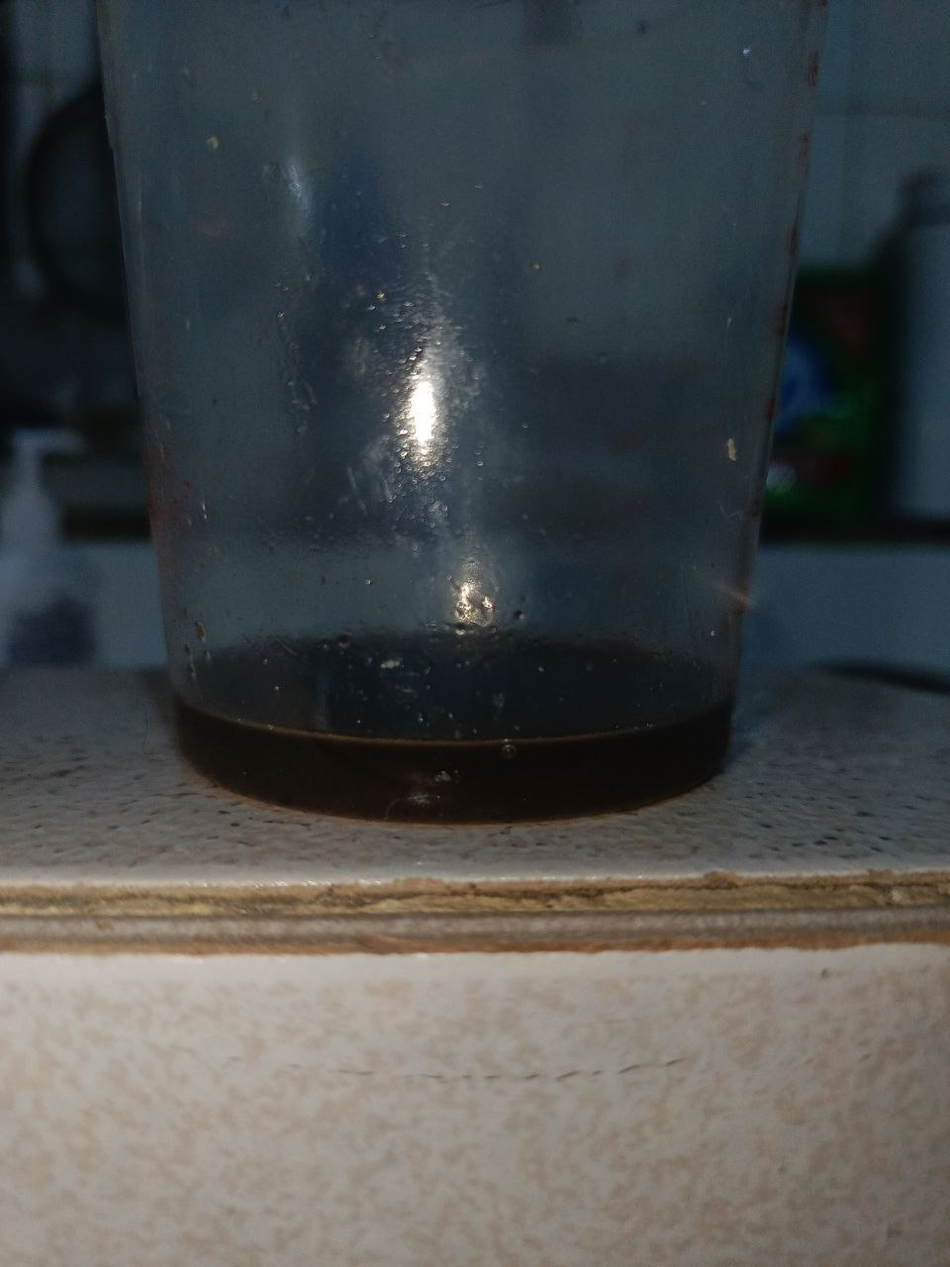non-reusable: (172, 627, 739, 818)
